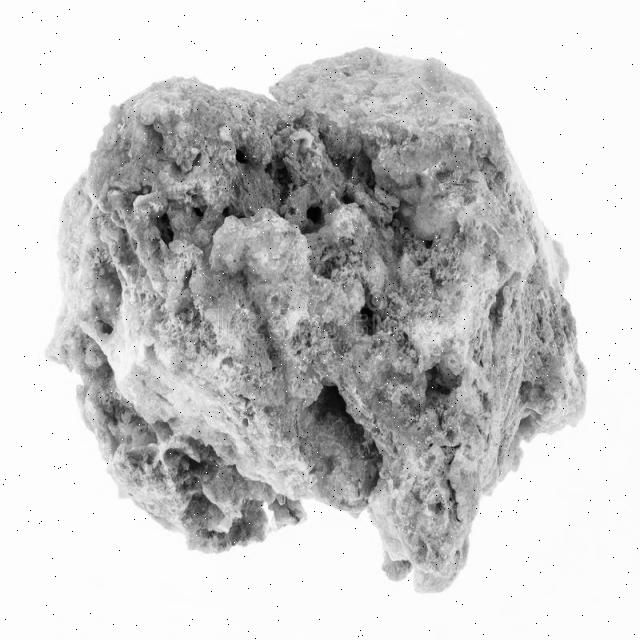Sedimentary: (51, 45, 594, 598)
